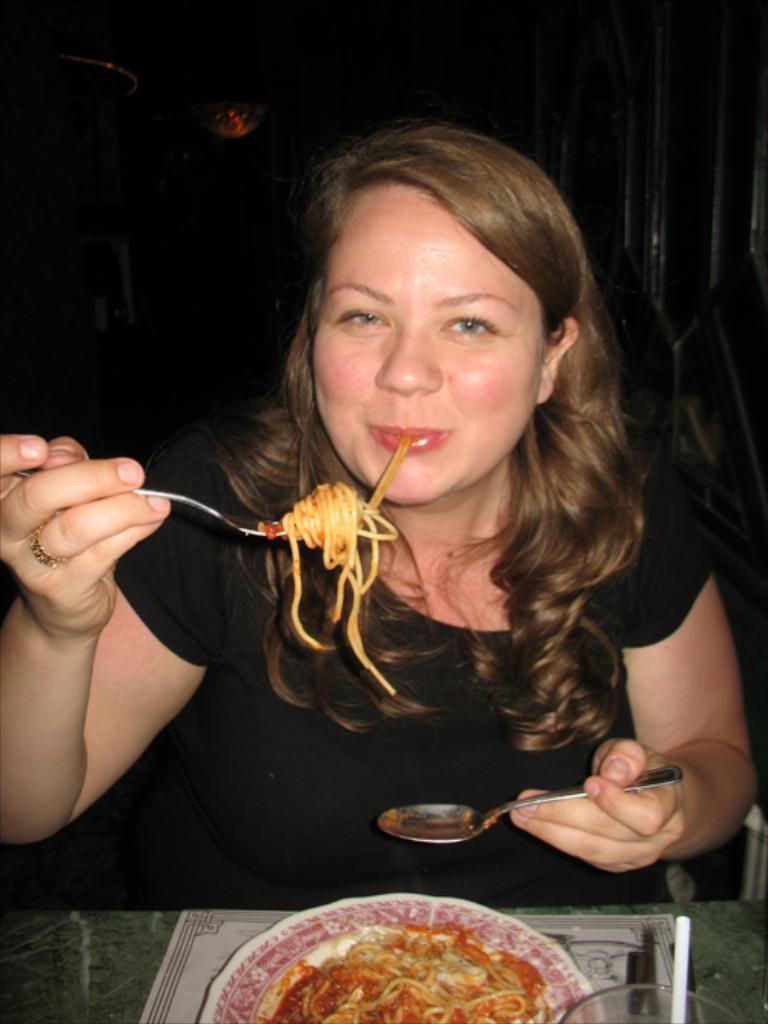Human_hand: (9, 428, 180, 609), (504, 732, 688, 881)
